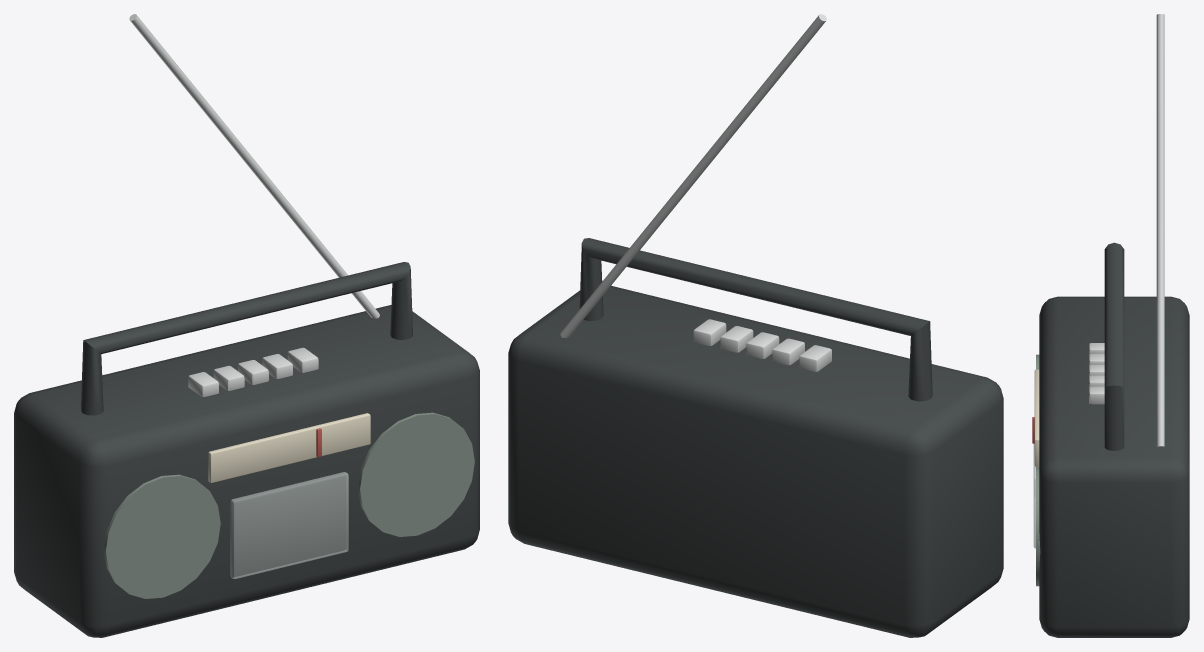
File: CTCC_PROP_VintageRadio.fbx
3 renders of one model, left to right at view 1: azimuth 30°, elevation 25°; view 2: azimuth 150°, elevation 25°; view 3: azimuth 270°, elevation 25°, orthographic. The views are drawn at different scales.
Visible parts, largest first — view 1: CTCC_PROP_VintageRadio; view 2: CTCC_PROP_VintageRadio; view 3: CTCC_PROP_VintageRadio.
Boxes of the visible parts, left/top/right/bottom form: CTCC_PROP_VintageRadio: left=14, top=14, right=479, bottom=637; CTCC_PROP_VintageRadio: left=508, top=14, right=1003, bottom=637; CTCC_PROP_VintageRadio: left=1032, top=14, right=1189, bottom=637.
Bounding box in the file's own units: 0.36 × 0.482 × 0.136.
